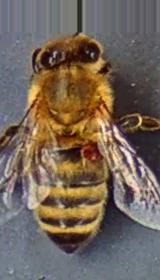varroa_mite: (67, 130, 118, 168)
